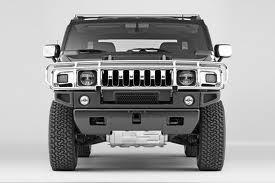car: (44, 15, 234, 175)
